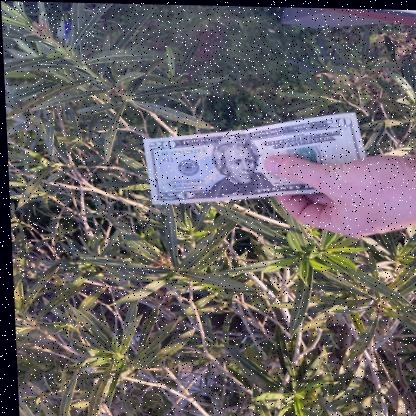twenty-front: (142, 111, 369, 208)
